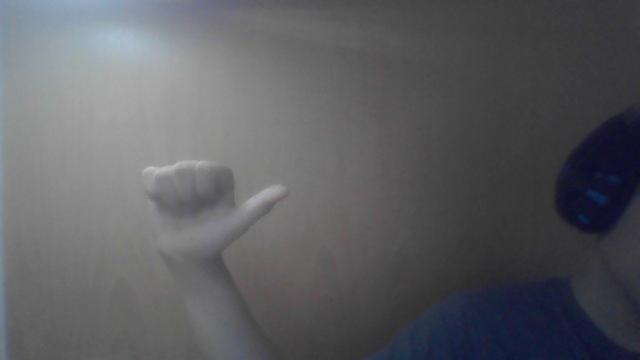left: (135, 149, 287, 269)
